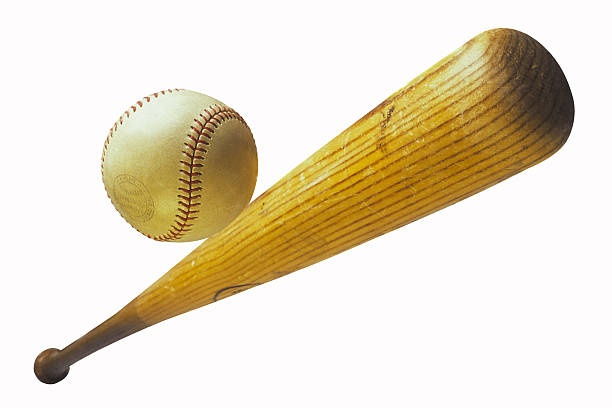bita: (28, 36, 568, 389)
